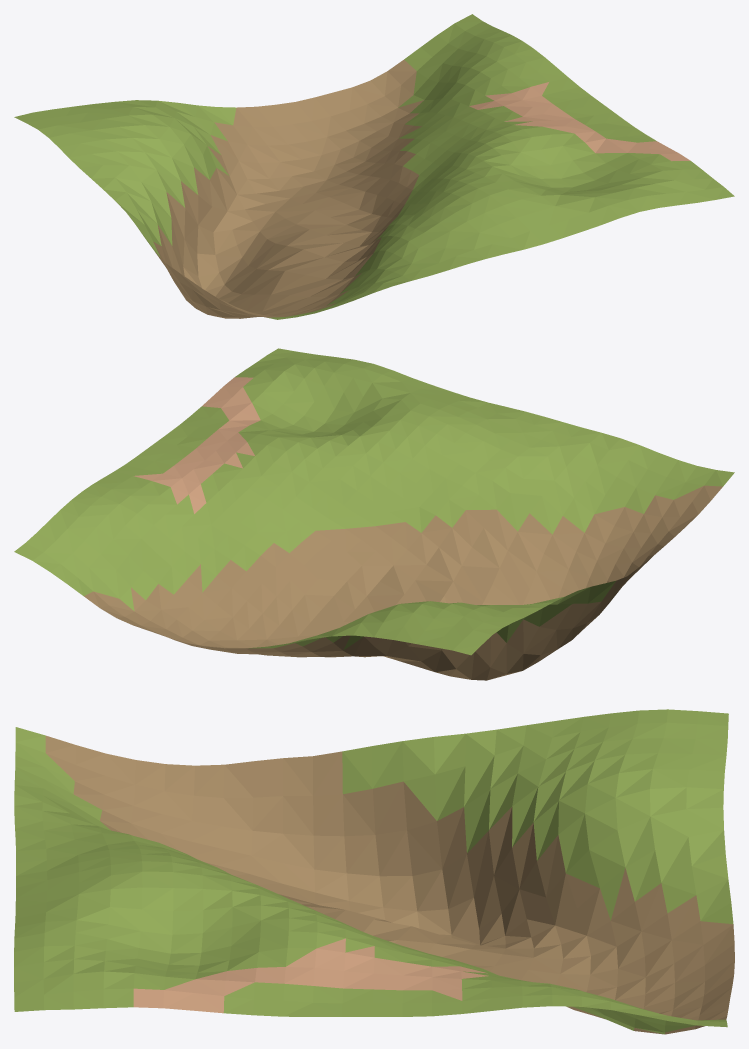
Rendered from chap5tewr.fbx.
3 renders of one model, top to bottom at view 1: azimuth 30°, elevation 25°; view 2: azimuth 150°, elevation 25°; view 3: azimuth 270°, elevation 25°, orthographic. The views are drawn at different scales.
Parts seen in each view (by area): view 1: Plane.020; view 2: Plane.020; view 3: Plane.020.
Part boxes in pixels (left/top/right/bottom): Plane.020: left=14, top=14, right=734, bottom=319; Plane.020: left=14, top=348, right=734, bottom=680; Plane.020: left=14, top=709, right=734, bottom=1034.
Bounding box in the file's own units: 151 × 44.2 × 151.
